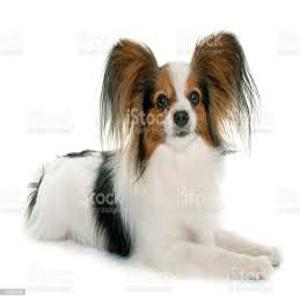yell: (24, 31, 280, 280)
